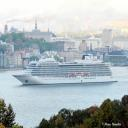cruises: (12, 54, 121, 87)
